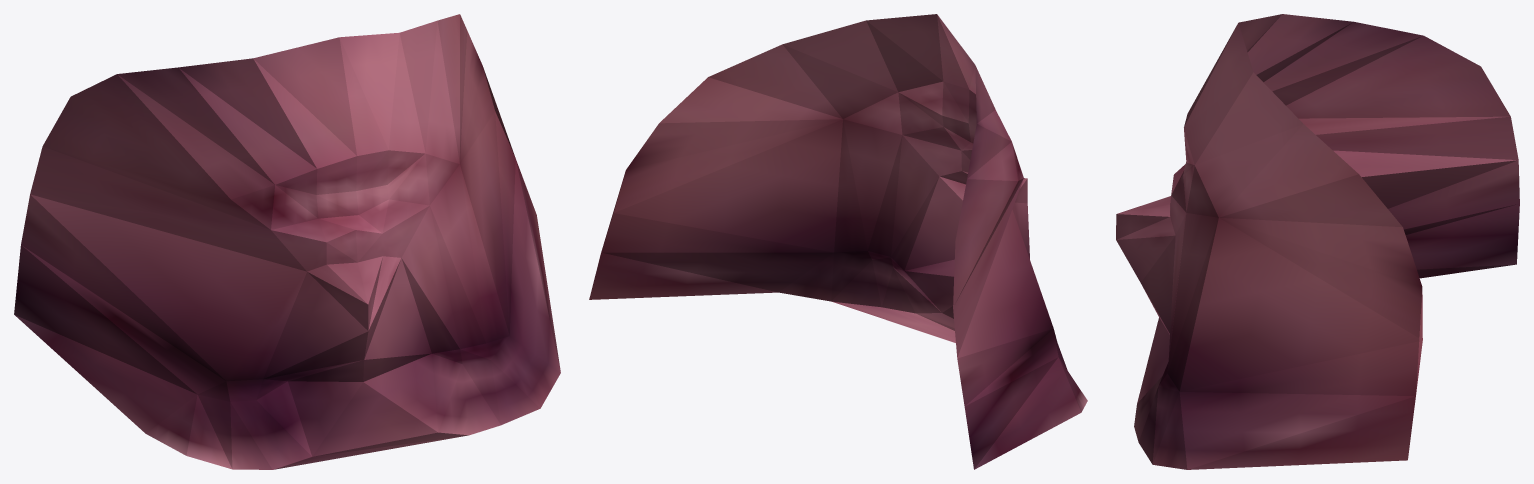
Rendered from fake_15406.obj.
3 renders of one model, left to right at view 1: azimuth 30°, elevation 25°; view 2: azimuth 150°, elevation 25°; view 3: azimuth 270°, elevation 25°, orthographic. The views are drawn at different scales.
Bounding box in the file's own units: 110 × 87 × 84.65.
